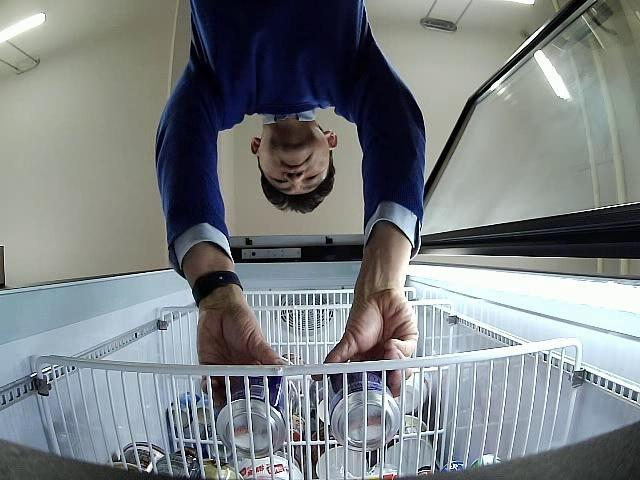14_welchsGrape: (217, 378, 296, 458), (328, 372, 402, 452)
